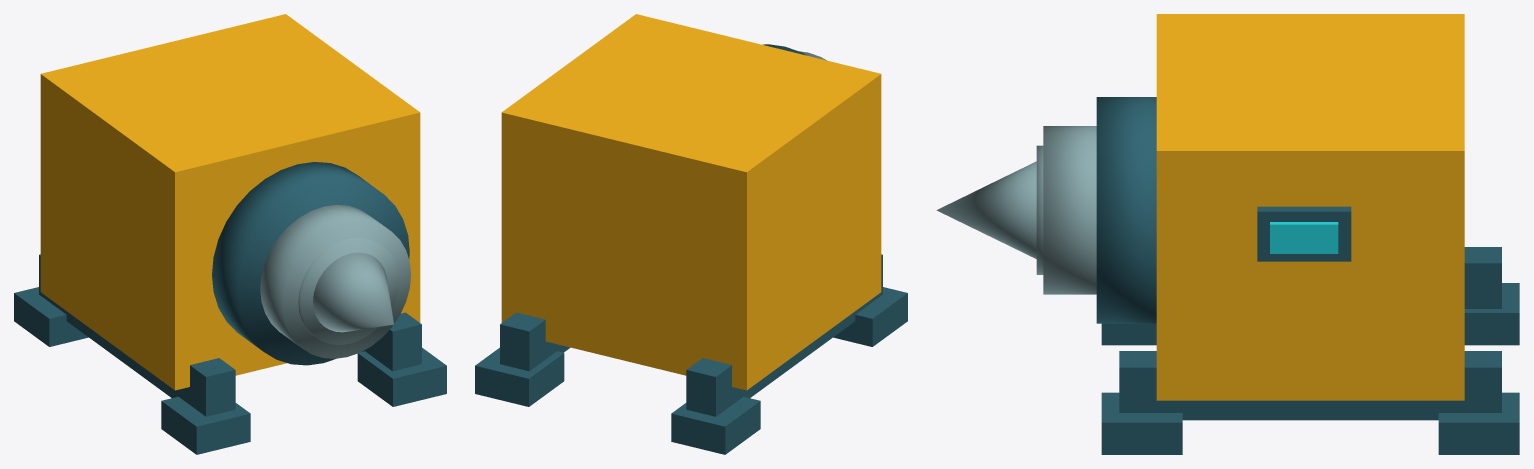
The model's file is drill.glb.
3 views of the same model, side by side, from view 1: azimuth 30°, elevation 25°; view 2: azimuth 150°, elevation 25°; view 3: azimuth 270°, elevation 25° (orthographic). The views are drawn at different scales.
Parts seen in each view (by area): view 1: Drill housing, Drill collar, Drill spindle, Drill bit, Drill support, Drill foot, Drill metal ring.001, Drill foot.002, Drill foot.001, Drill support.001; view 2: Drill housing, Drill support, Drill foot.001, Drill foot.003, Drill support.001, Drill foot; view 3: Drill housing, Drill collar, Drill support.001, Drill spindle, Drill bit, Drill foot.002, Drill foot.003, Drill indicator bezel, Drill foot.001, Drill support, Drill indicator, Drill foot (+1 smaller).
Part boxes in pixels (box(x1,y1,x2,y2)): Drill housing: box(40, 14, 420, 390); Drill collar: box(212, 162, 409, 365); Drill spindle: box(260, 204, 410, 358); Drill bit: box(313, 252, 393, 332); Drill support: box(39, 254, 235, 416); Drill foot: box(161, 396, 250, 454); Drill metal ring.001: box(298, 237, 399, 344); Drill foot.002: box(357, 347, 446, 406); Drill foot.001: box(14, 287, 88, 346); Drill support.001: box(362, 312, 421, 371); Drill housing: box(501, 14, 881, 390); Drill support: box(686, 254, 882, 416); Drill foot.001: box(671, 396, 760, 454); Drill foot.003: box(475, 347, 564, 406); Drill support.001: box(500, 312, 570, 371); Drill foot: box(833, 287, 907, 346); Drill housing: box(1156, 14, 1464, 400); Drill collar: box(1096, 97, 1156, 323); Drill support.001: box(1119, 351, 1501, 420); Drill spindle: box(1043, 126, 1096, 294); Drill bit: box(936, 161, 1036, 258); Drill foot.002: box(1101, 392, 1182, 454); Drill foot.003: box(1438, 392, 1519, 454); Drill indicator bezel: box(1257, 206, 1351, 261); Drill foot.001: box(1464, 283, 1519, 345); Drill support: box(1464, 247, 1501, 308); Drill indicator: box(1270, 222, 1338, 253); Drill foot: box(1101, 323, 1156, 345).
Size of the model in its own units: 1.07 by 1.03 by 1.8.
